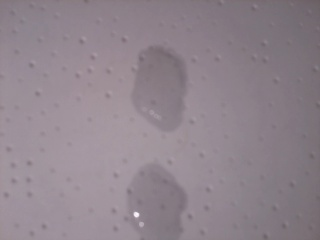Water_detected: (132, 52, 184, 115), (131, 177, 176, 227)
